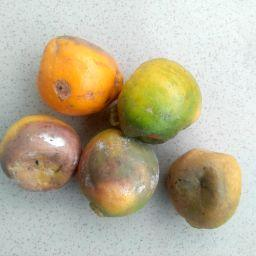orange: (75, 127, 161, 218), (115, 57, 203, 144), (36, 34, 124, 118), (0, 114, 82, 193), (166, 146, 242, 229)
